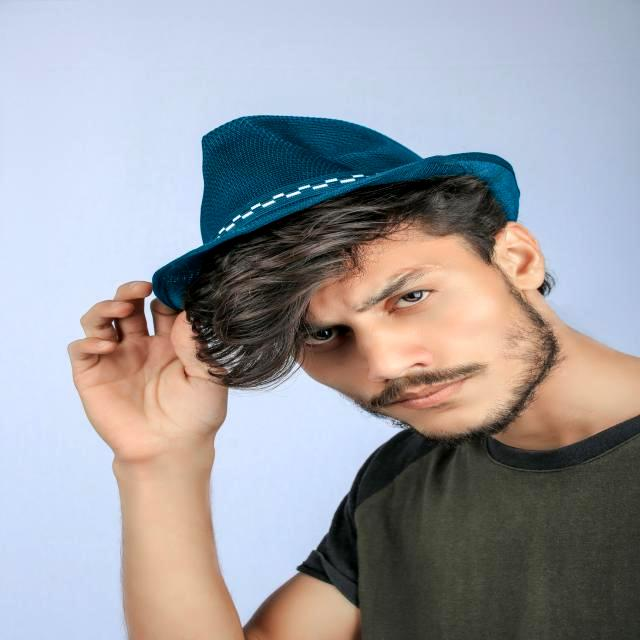no_hard_hat: (152, 116, 520, 309)
person: (68, 117, 640, 640)
